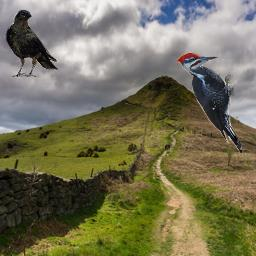Crow: (5, 9, 58, 77)
Woodpecker: (176, 52, 242, 153)
